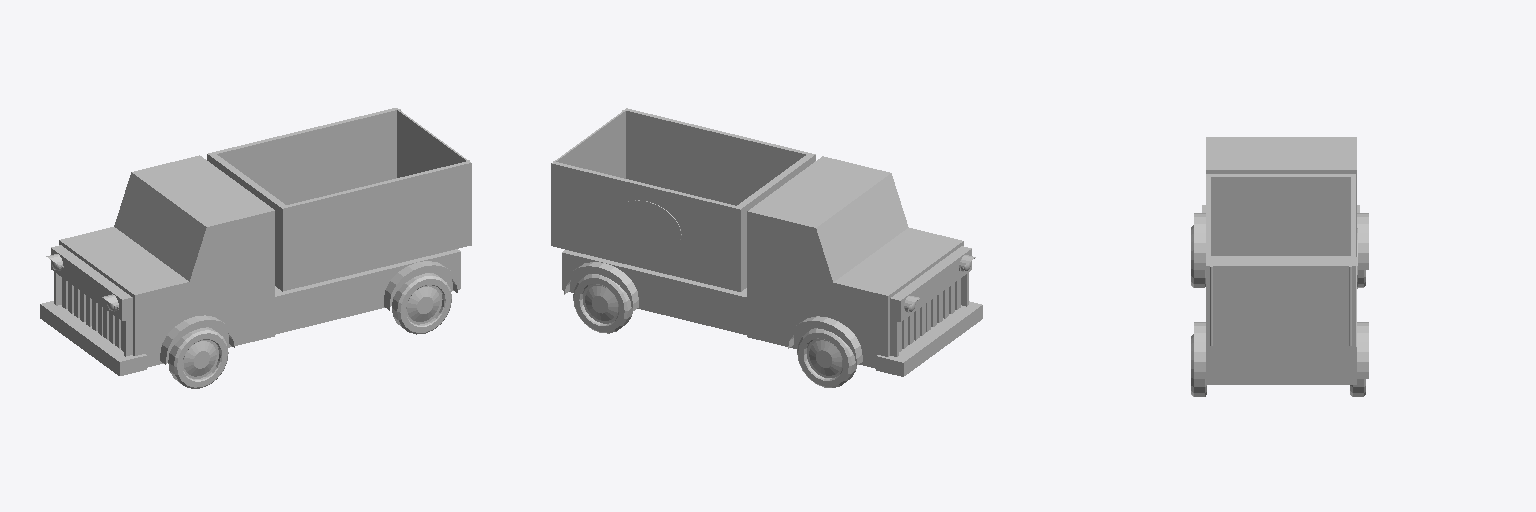
Rendered from Props_DumpTruck_Geo.obj.
3 views of the same model, side by side, from view 1: azimuth 30°, elevation 25°; view 2: azimuth 150°, elevation 25°; view 3: azimuth 270°, elevation 25° (orthographic).
Parts seen in each view (by area): view 1: TransportTruck, TransportTruck TransportBox, TransportTruck Wheel4, TransportTruck Wheel1, TransportTruck TransportBox Hinge1 Door, TransportTruck TransportBox Hinge Door; view 2: TransportTruck, TransportTruck TransportBox, TransportTruck TransportBox Sign, TransportTruck Wheel2, TransportTruck Wheel3, TransportTruck TransportBox Hinge Door, TransportTruck TransportBox Hinge1 Door; view 3: TransportTruck TransportBox, TransportTruck, TransportTruck TransportBox Hinge1 Door, TransportTruck TransportBox Hinge Door.
Part boxes in pixels (left/top/right/bottom): TransportTruck: left=40, top=155, right=460, bottom=375; TransportTruck TransportBox: left=207, top=108, right=471, bottom=291; TransportTruck Wheel4: left=168, top=327, right=228, bottom=388; TransportTruck Wheel1: left=392, top=273, right=451, bottom=334; TransportTruck TransportBox Hinge1 Door: left=397, top=110, right=432, bottom=177; TransportTruck TransportBox Hinge Door: left=432, top=135, right=467, bottom=169; TransportTruck: left=562, top=156, right=982, bottom=376; TransportTruck TransportBox: left=551, top=108, right=815, bottom=291; TransportTruck TransportBox Sign: left=614, top=200, right=681, bottom=253; TransportTruck Wheel2: left=573, top=274, right=632, bottom=333; TransportTruck Wheel3: left=797, top=328, right=856, bottom=387; TransportTruck TransportBox Hinge Door: left=590, top=111, right=625, bottom=178; TransportTruck TransportBox Hinge1 Door: left=555, top=136, right=590, bottom=169; TransportTruck TransportBox: left=1206, top=174, right=1355, bottom=348; TransportTruck: left=1194, top=137, right=1368, bottom=384; TransportTruck TransportBox Hinge1 Door: left=1281, top=265, right=1349, bottom=345; TransportTruck TransportBox Hinge Door: left=1211, top=265, right=1280, bottom=346.
Size of the model in its own units: 5.23 by 2.14 by 2.23.